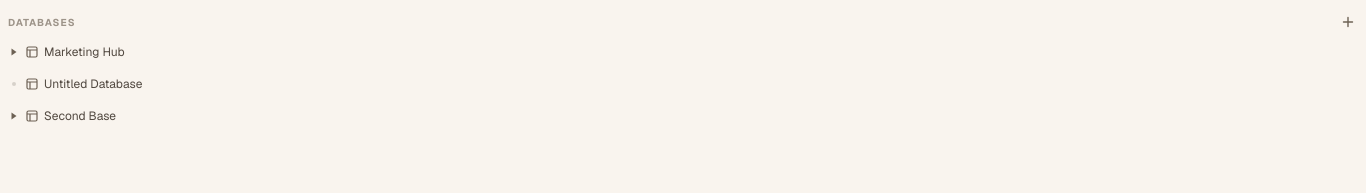
it: SidebarDatabaseTree › collapses again when the disclosure button is clicked a second time
This screenshot has width=1366, height=193.
Click the button named "Expand" next to "Marketing Hub" at (14, 52), box [6, 44, 22, 60]
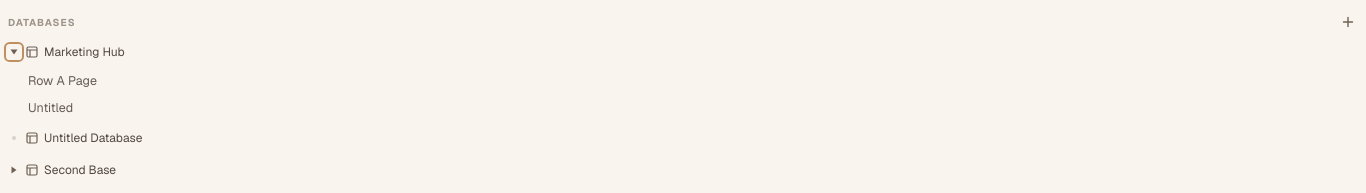
Check: the link "Row A Page" is shown, box [28, 72, 97, 89]
Click the button named "Collapse" at (14, 52), box [6, 44, 22, 60]
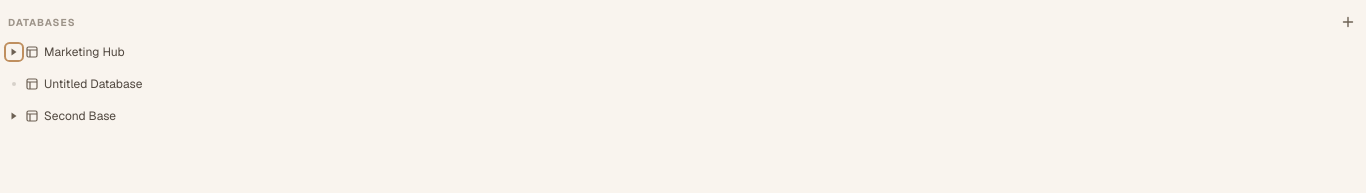
Check: the link "Row A Page" is gone
